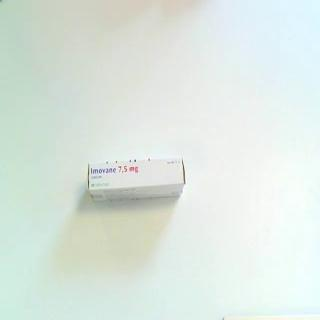imovane7-5mg: (87, 156, 187, 205)
